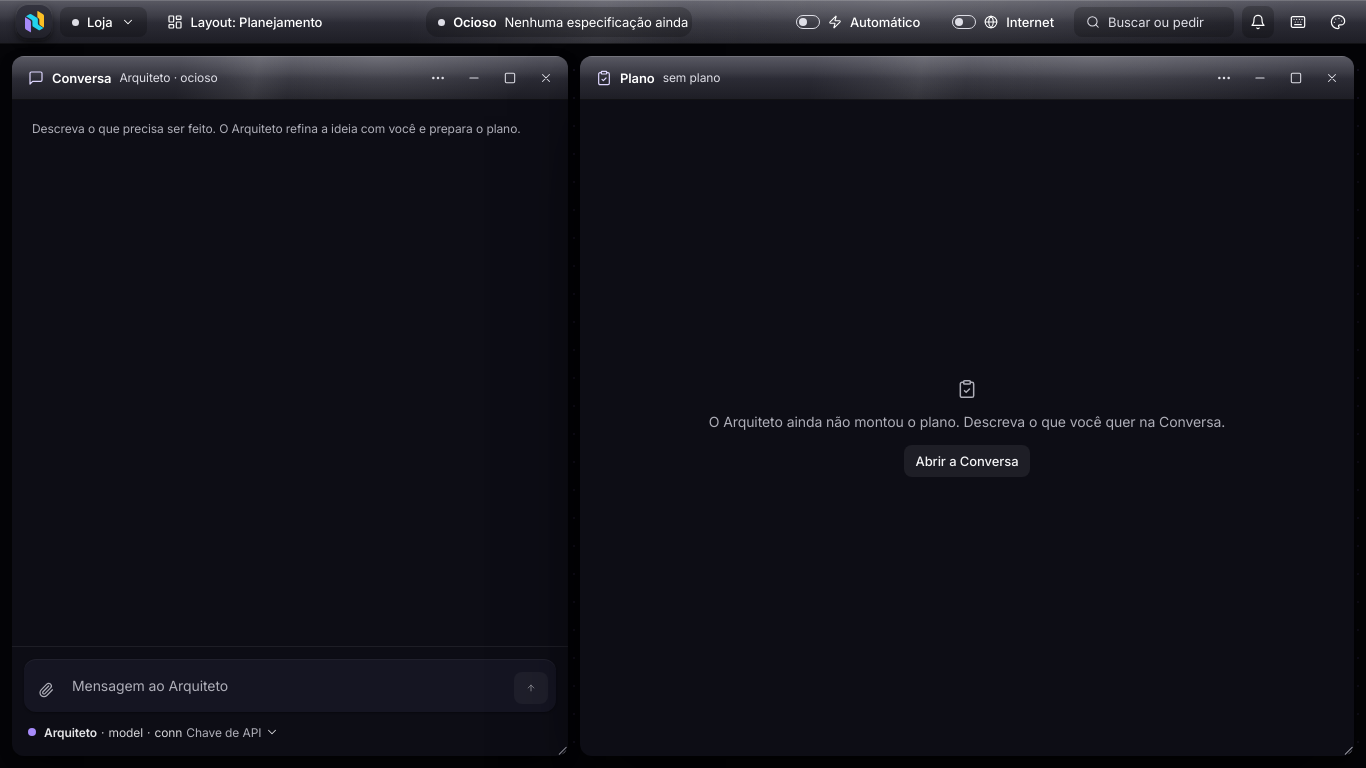
Shell: espaços e URL › a troca de espaço restaura o arranjo salvo da categoria e a seleção; o URL acompanha
expect the element "Plano" is shown: met, box [580,56,1354,756]
Click the button with aria-label "Trocar de projeto". click: (103, 22)
box: [60,7,146,37]
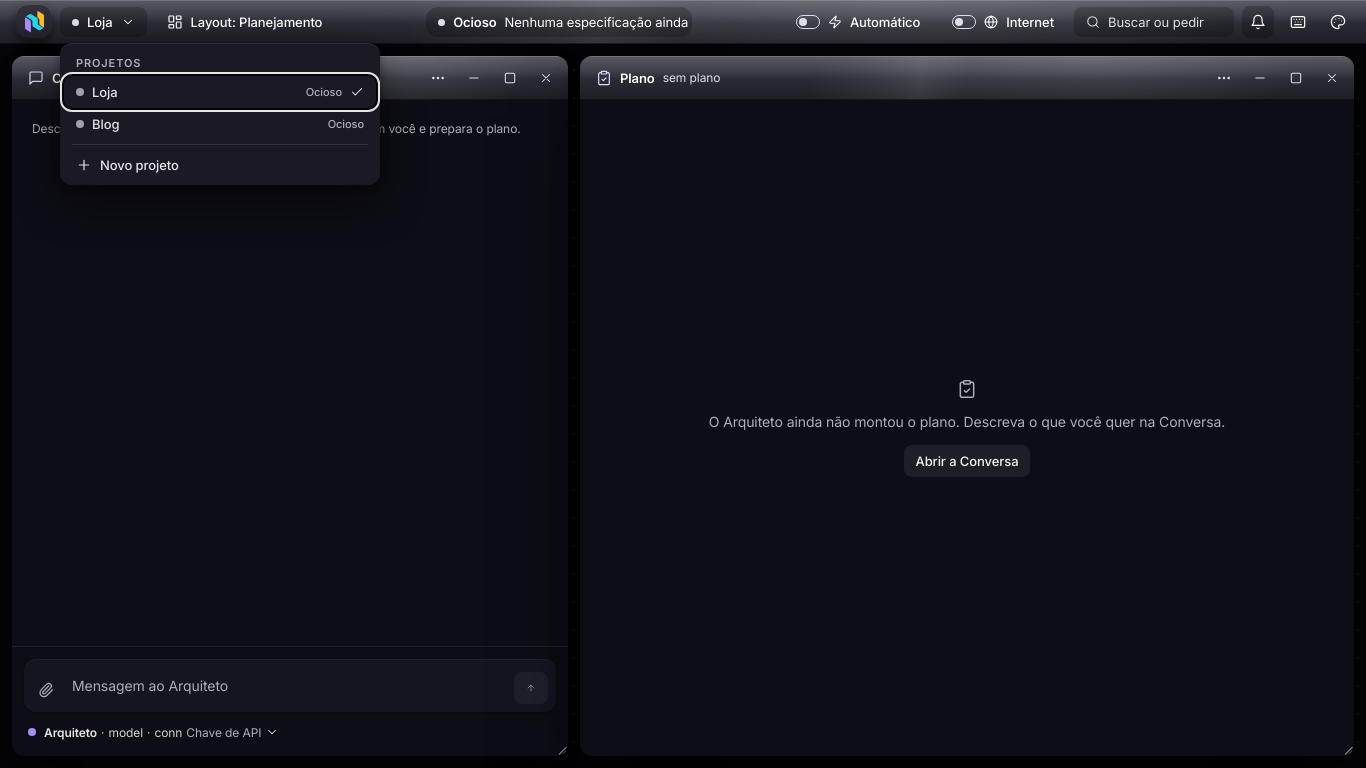
Click the menu item "Blog Ocioso". click: (346, 124)
box: [64,108,376,140]
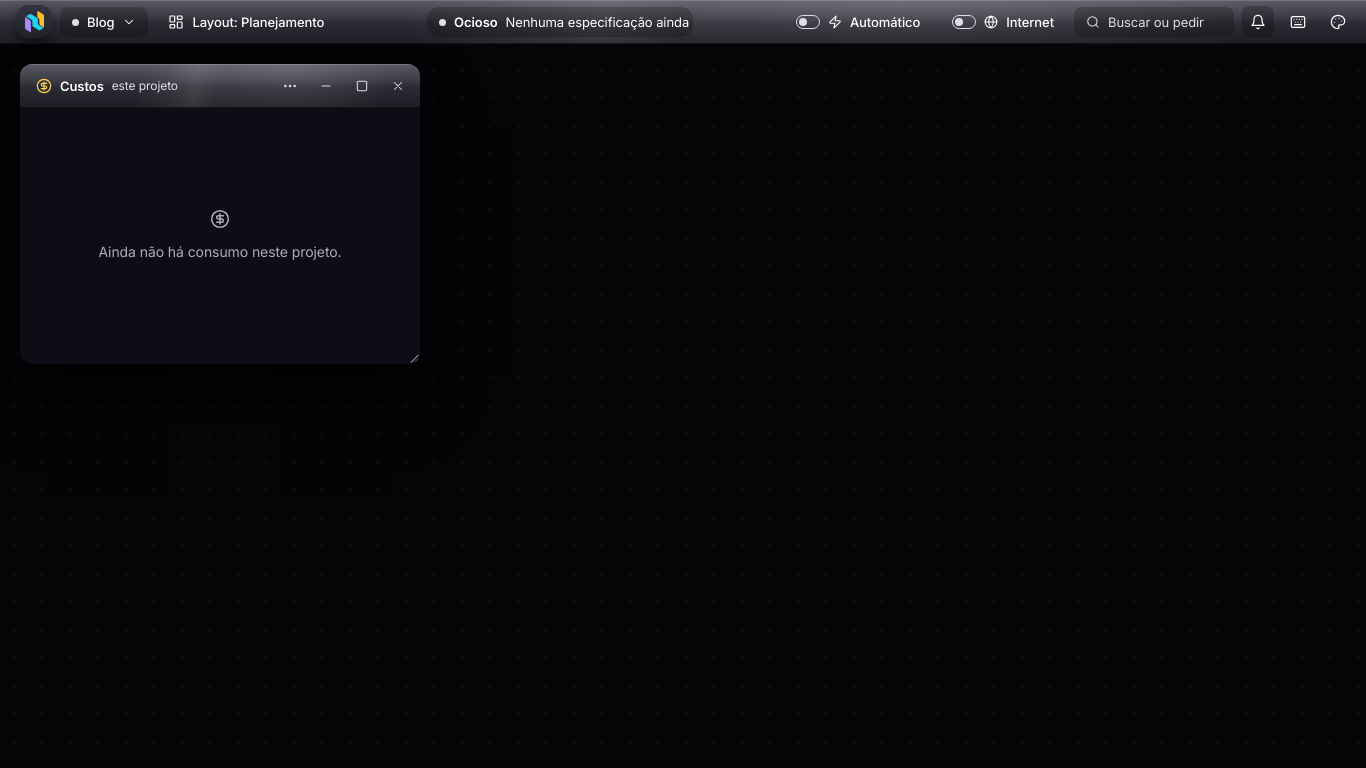
expect the element "Custos" is shown: met, box [20,64,420,364]
expect the text "Plano" is gone: met
